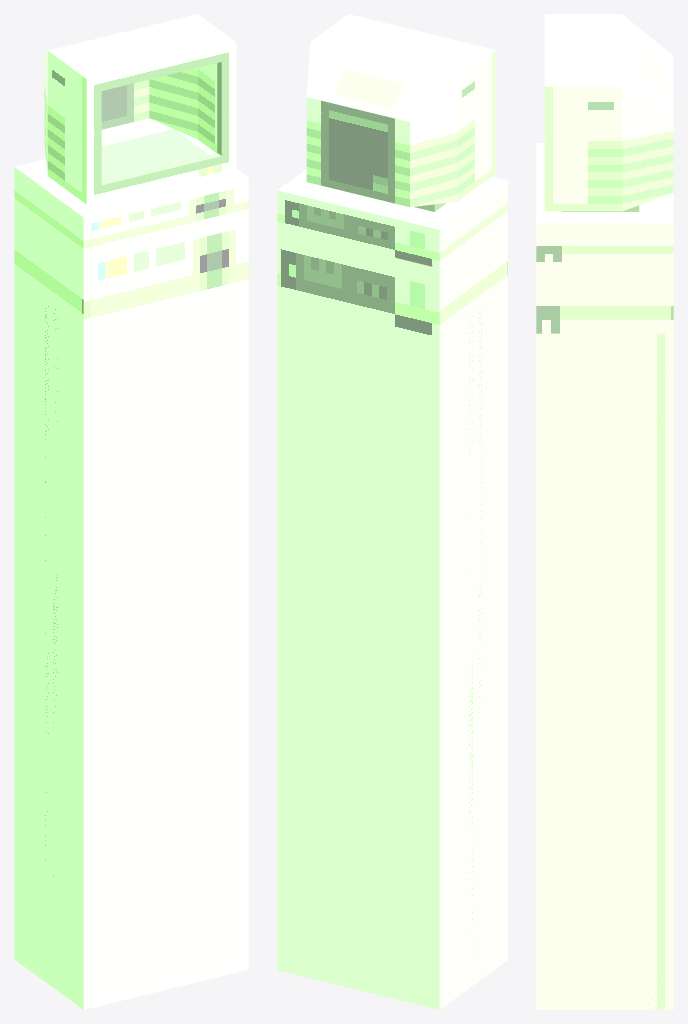
File: cyberpunkcomputer.glb
The picture shows the model from 3 angles, left to right: view 1: azimuth 30°, elevation 25°; view 2: azimuth 150°, elevation 25°; view 3: azimuth 270°, elevation 25°; orthographic projection.
Parts seen in each view (by area): view 1: PC, Monitor; view 2: PC, Monitor; view 3: PC, Monitor.
Boxes of the visible parts, x1=… form: PC: x1=14, y1=159, x2=248, y2=1009; Monitor: x1=44, y1=14, x2=236, y2=204; PC: x1=277, y1=169, x2=507, y2=1009; Monitor: x1=306, y1=14, x2=495, y2=211; PC: x1=536, y1=143, x2=673, y2=1009; Monitor: x1=544, y1=14, x2=673, y2=211.
Size of the model in its own units: 1.38 by 7.37 by 1.
